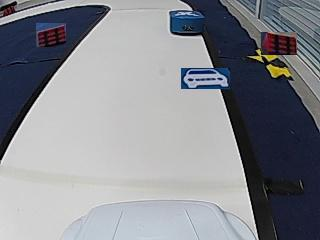prop: (170, 11, 204, 35)
